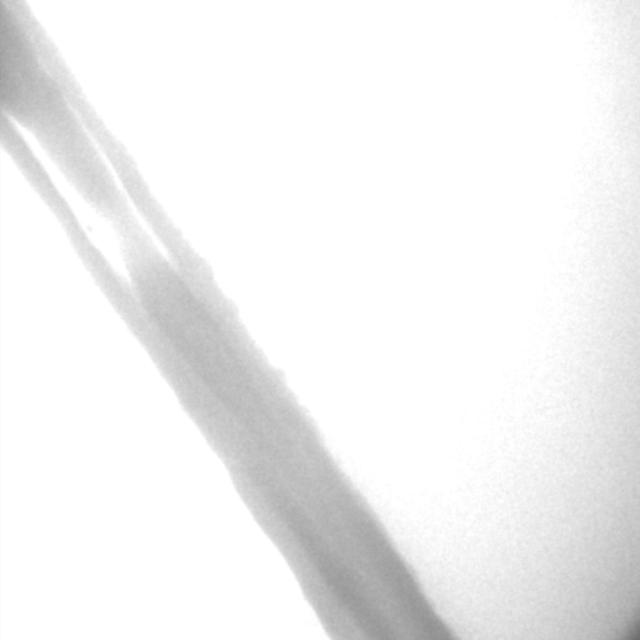unfused: (9, 114, 177, 302)
